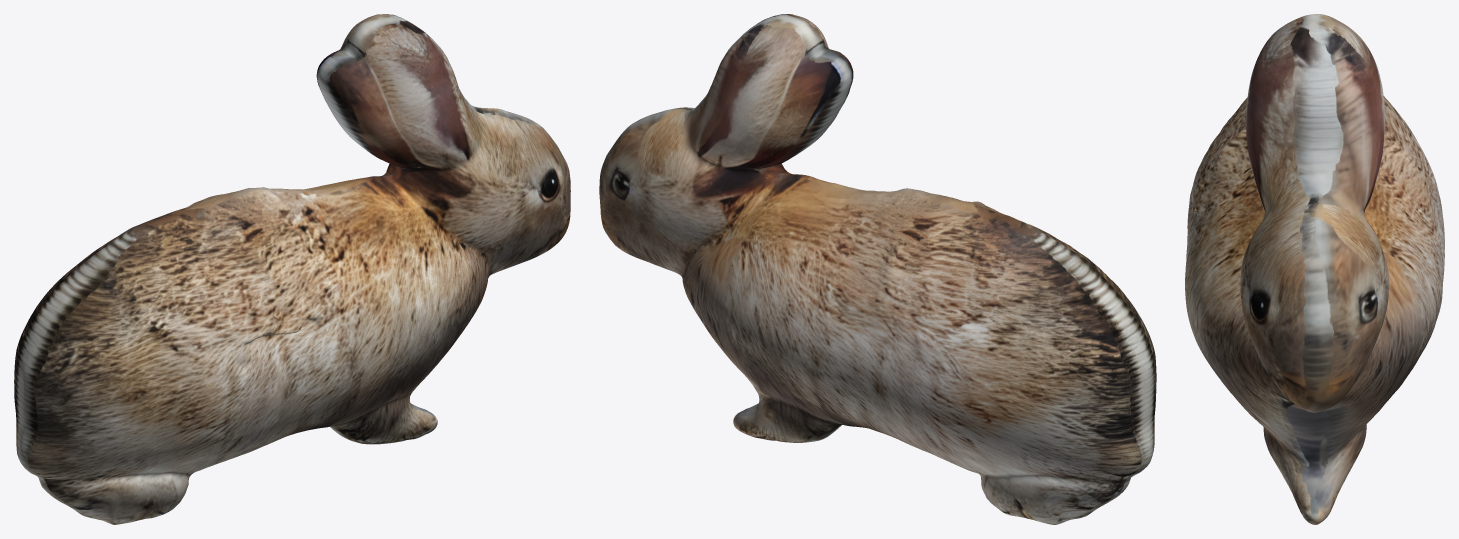
File: bebe.glb
3 views of the same model, side by side, from view 1: azimuth 30°, elevation 25°; view 2: azimuth 150°, elevation 25°; view 3: azimuth 270°, elevation 25° (orthographic). The views are drawn at different scales.
Visible parts, largest first — view 1: mesh; view 2: mesh; view 3: mesh.
Part boxes in pixels (bbox=[...]): mesh: bbox=[14, 14, 570, 524]; mesh: bbox=[599, 14, 1156, 524]; mesh: bbox=[1185, 14, 1444, 524].
Size of the model in its own units: 1.81 by 1.39 by 0.6583.
Materials: 1 (1 with a texture image).
